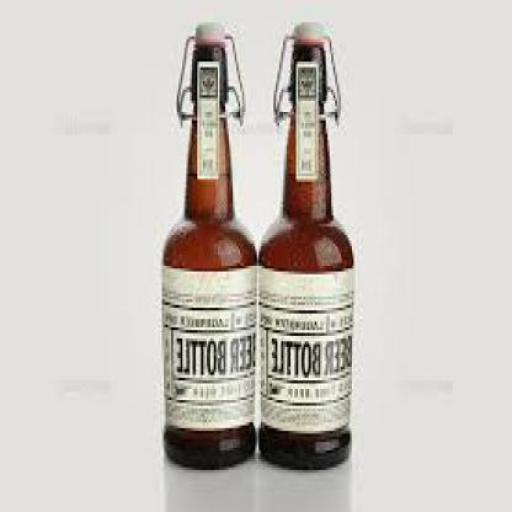glass: (261, 44, 356, 468), (166, 42, 259, 468)
plastic: (199, 17, 229, 42), (296, 16, 329, 38)
